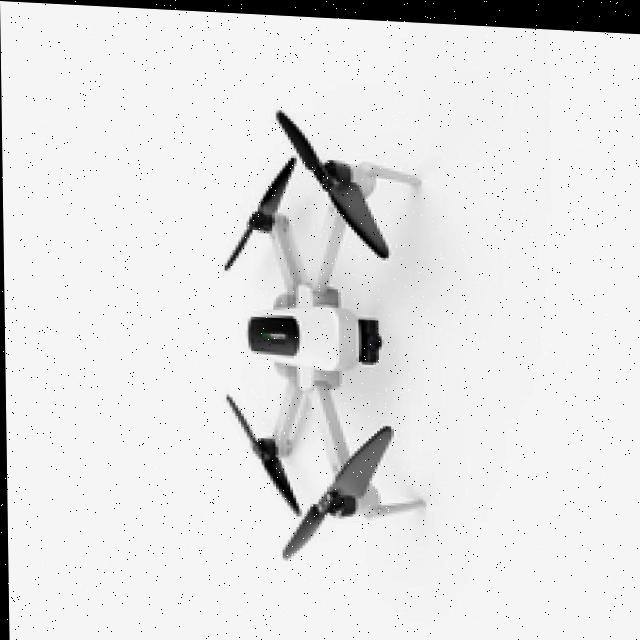drone: (205, 103, 431, 578)
